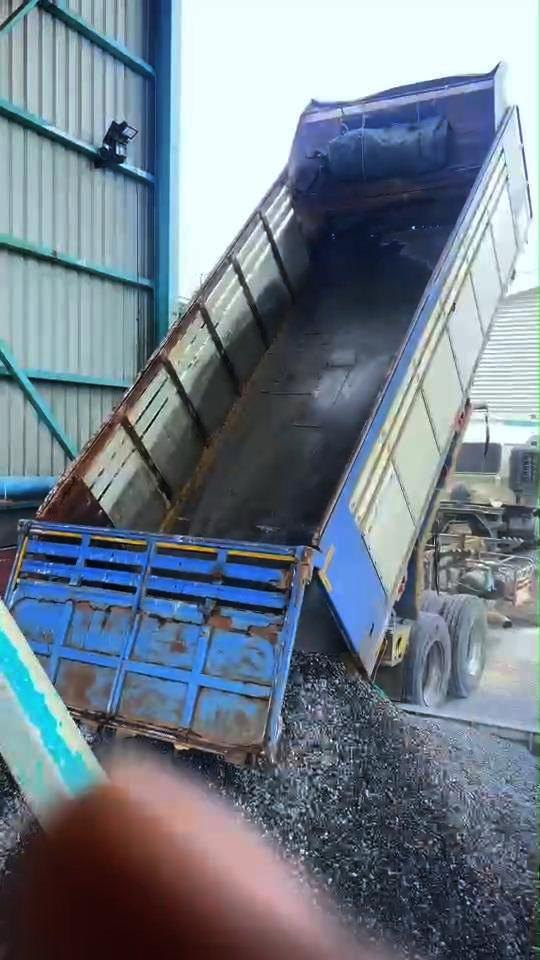gravel: (190, 654, 537, 959), (0, 782, 23, 850)
